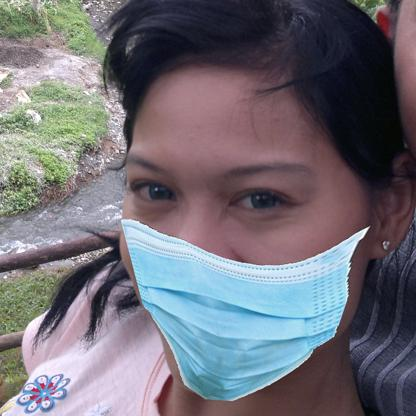mask: (118, 216, 366, 401)
